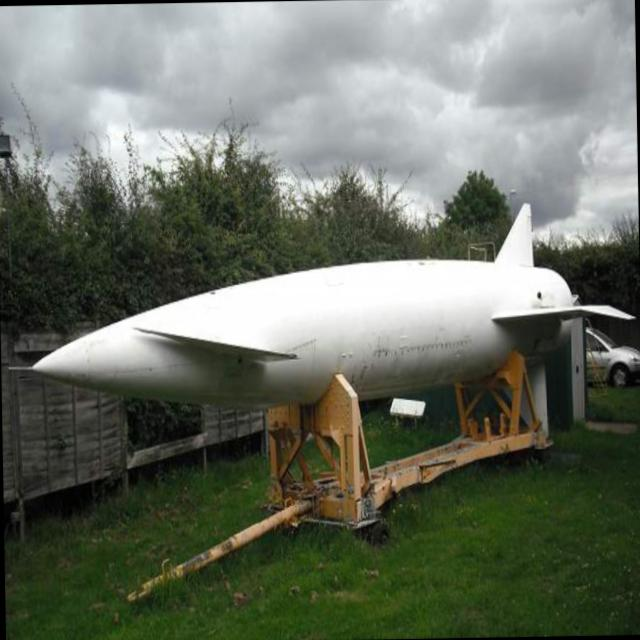rocket: (33, 197, 633, 447)
